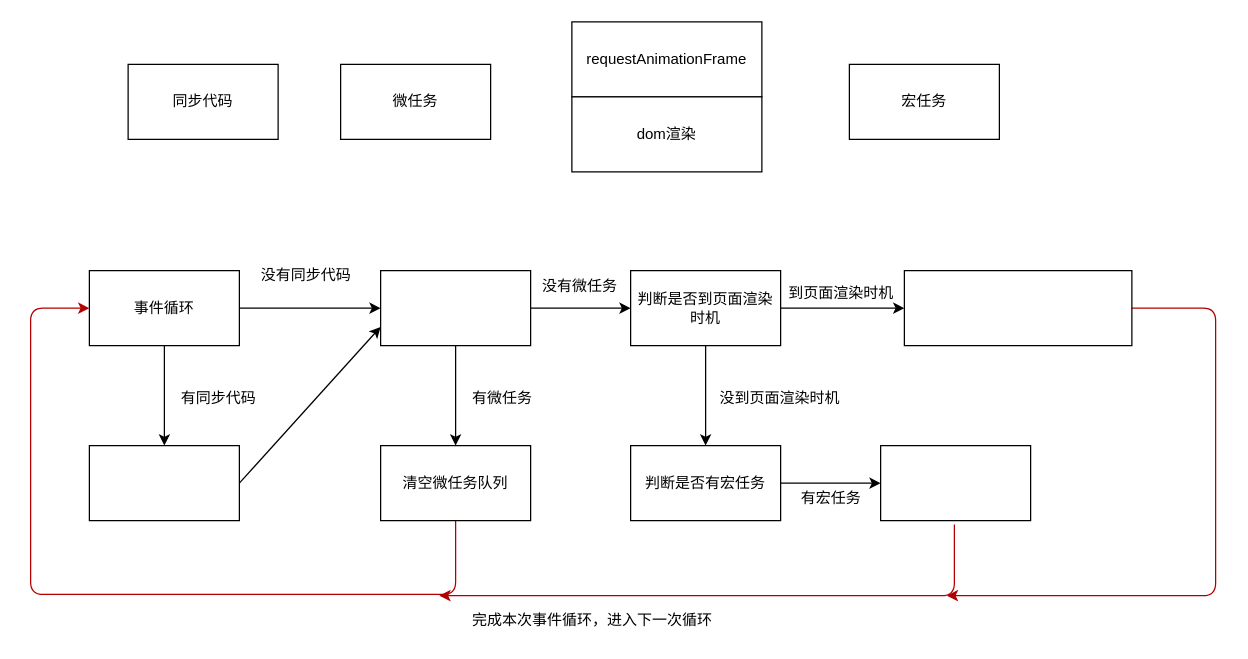
Image size: 1248x659. Some labels were removed from this diagram. Each missing label, with the box of its shape:
判断是否有微任务: (379, 269, 531, 346)
取出一个宏任务执行: (879, 444, 1031, 521)
执行requestAnimationFrame: (903, 269, 1132, 346)
执行同步代码: (88, 444, 239, 521)
